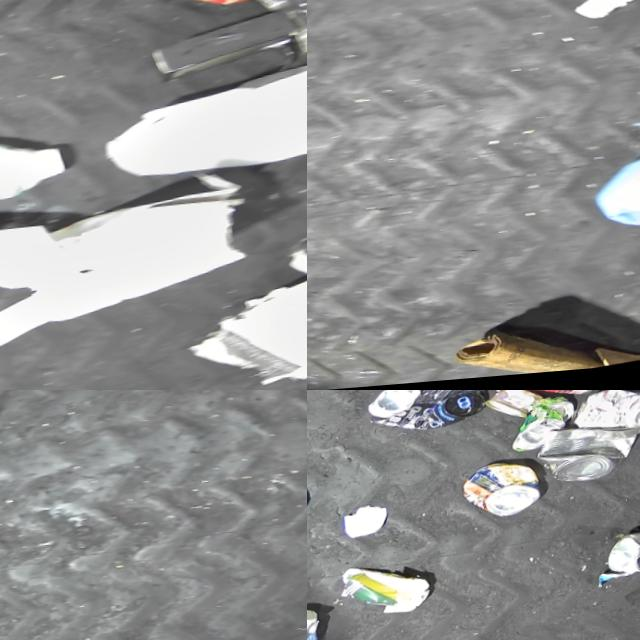can: (534, 422, 640, 496), (364, 390, 487, 444), (460, 463, 543, 530), (570, 390, 640, 451), (508, 403, 578, 460), (486, 390, 610, 416), (483, 390, 545, 431), (606, 535, 640, 587)
milk_jug: (97, 62, 307, 195), (0, 130, 78, 222)
non_white_jug: (585, 102, 640, 242)
plastic_bottle: (113, 0, 302, 26)
